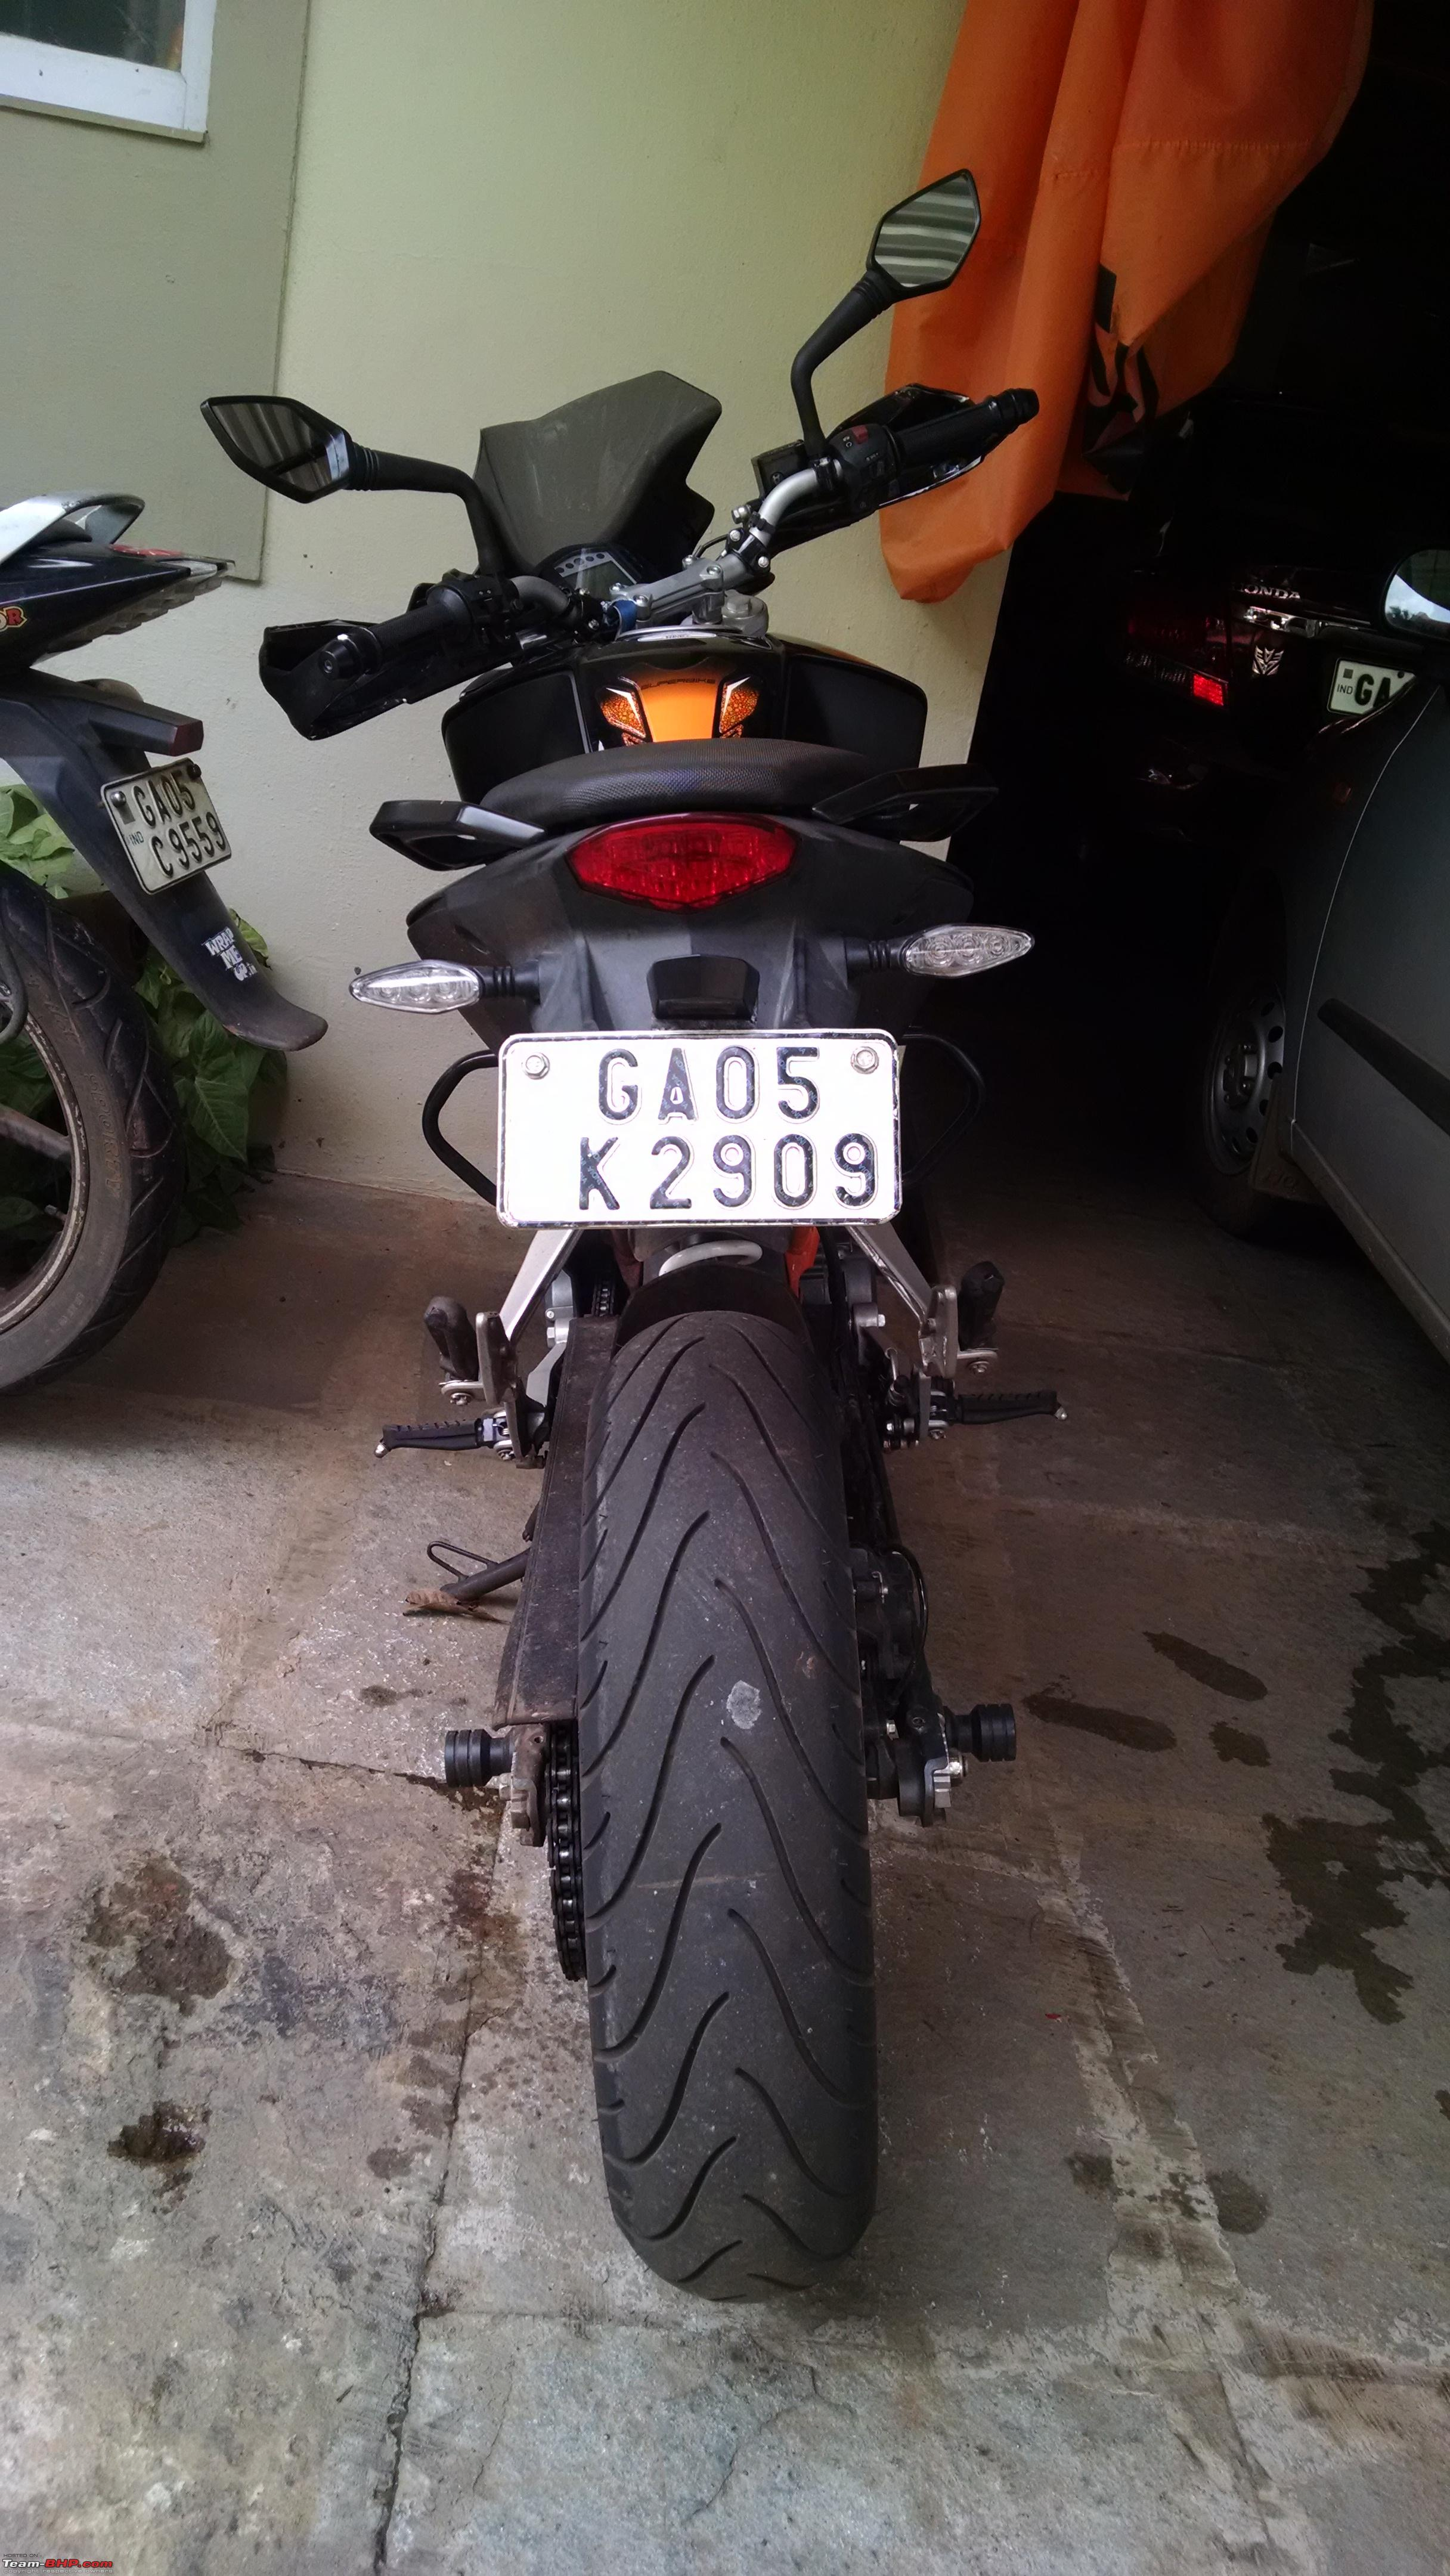doublelinenumberplate: (487, 1026, 919, 1240)
